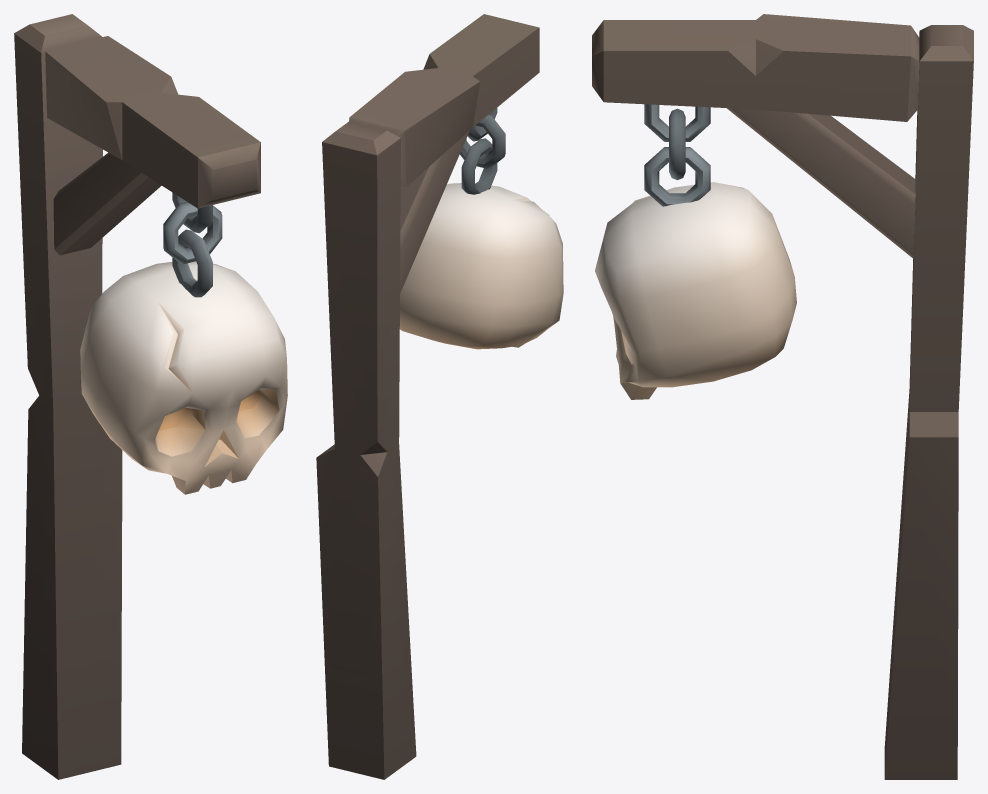
File: postSkull.glb
The picture shows the model from 3 angles, left to right: view 1: azimuth 30°, elevation 25°; view 2: azimuth 150°, elevation 25°; view 3: azimuth 270°, elevation 25°; orthographic projection. The views are drawn at different scales.
Parts seen in each view (by area): view 1: post_skull, post_skull_skull; view 2: post_skull, post_skull_skull; view 3: post_skull, post_skull_skull.
Part boxes in pixels (bbox=[...]): post_skull: bbox=[14, 14, 260, 779]; post_skull_skull: bbox=[80, 192, 287, 494]; post_skull: bbox=[316, 14, 539, 779]; post_skull_skull: bbox=[399, 108, 563, 349]; post_skull: bbox=[592, 14, 973, 779]; post_skull_skull: bbox=[595, 104, 796, 399].
Bounding box in the file's own units: 0.8091 × 3.3 × 1.57.
Materials: 1 (1 with a texture image).
